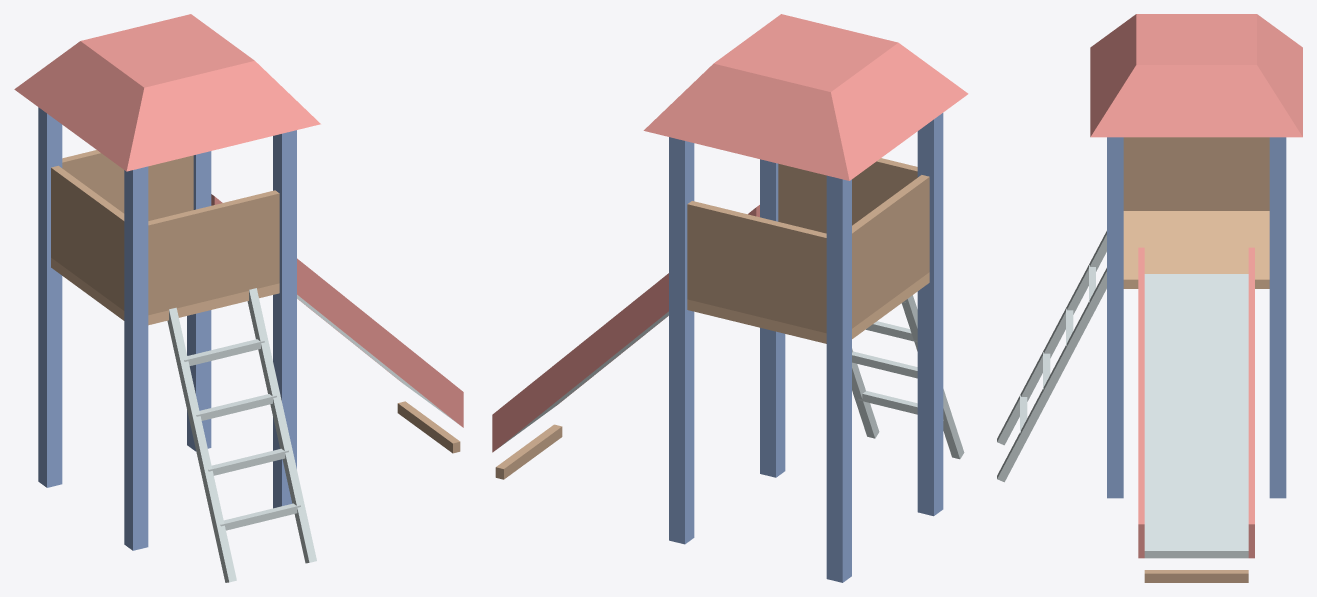
File: playgroundSlide.glb
3 renders of one model, left to right at view 1: azimuth 30°, elevation 25°; view 2: azimuth 150°, elevation 25°; view 3: azimuth 270°, elevation 25°, orthographic. The views are drawn at different scales.
Parts seen in each view (by area): view 1: playgroundSlide; view 2: playgroundSlide; view 3: playgroundSlide.
Boxes of the visible parts, box(x1,y1,x2,y2) form: playgroundSlide: box(14, 14, 463, 582); playgroundSlide: box(492, 14, 968, 582); playgroundSlide: box(997, 14, 1302, 582).
Size of the model in its own units: 0.95 by 1.12 by 0.734.
